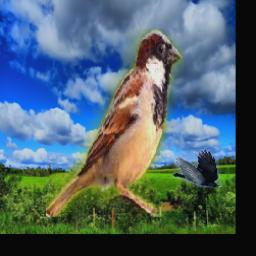Crow: (173, 149, 222, 187)
Sparrow: (45, 30, 183, 218)
